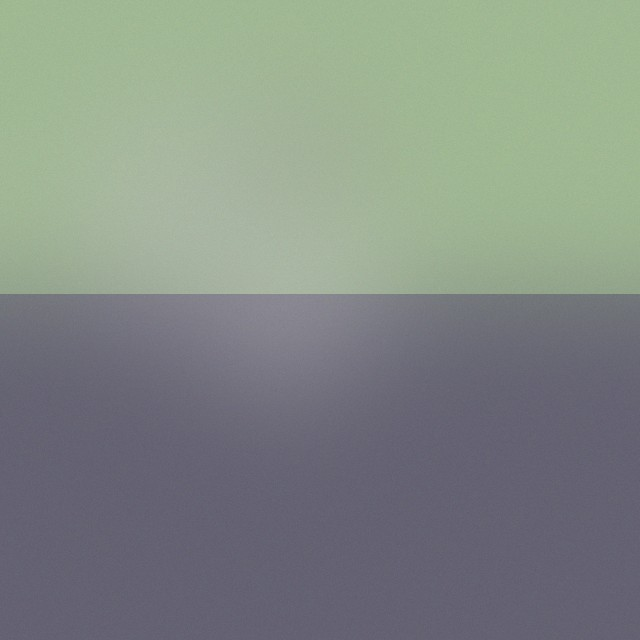smoke: (137, 125, 373, 361)
